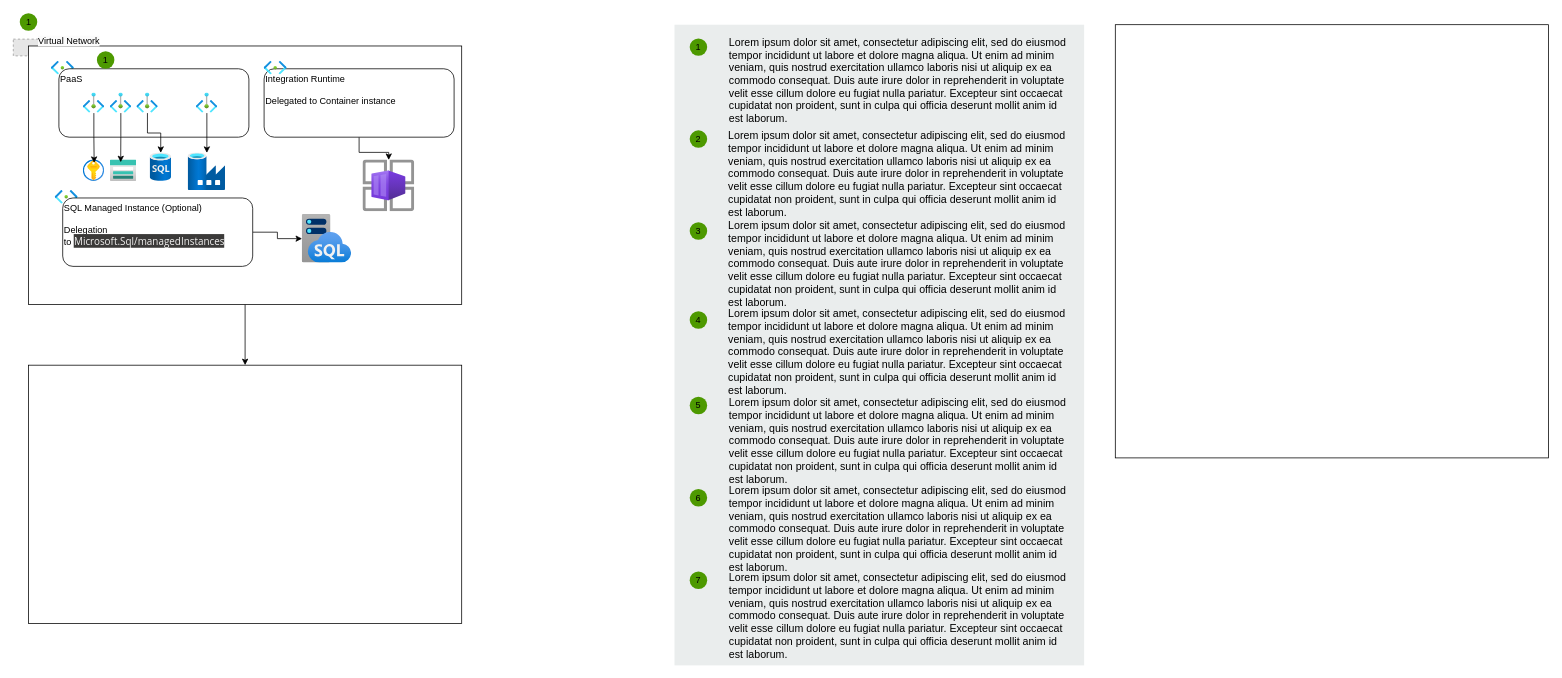
The diagram is 1562 pixels wide and 678 high, and some of its shapes have lost their labels. Grey dashed boxes stand in for pictures. Each missing label, with the centre of its shape:
Hub: the point at 245,494
Service Catalog (URL): the point at 1331,241
